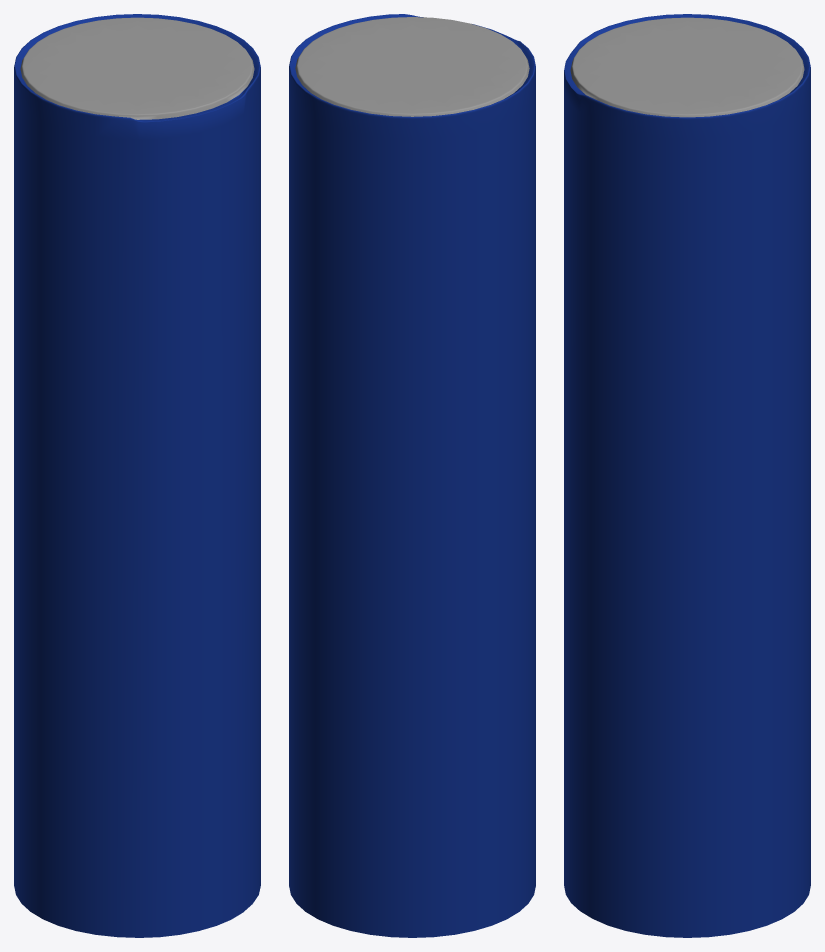
Rendered from Finish_Platform_1.fbx.
The picture shows the model from 3 angles, left to right: view 1: azimuth 30°, elevation 25°; view 2: azimuth 150°, elevation 25°; view 3: azimuth 270°, elevation 25°; orthographic projection.
Visible parts, largest first — view 1: FinishPlatform; view 2: FinishPlatform; view 3: FinishPlatform.
Part boxes in pixels (bbox=[...]): FinishPlatform: bbox=[14, 14, 260, 937]; FinishPlatform: bbox=[289, 14, 535, 937]; FinishPlatform: bbox=[564, 14, 810, 937].
Bounding box in the file's own units: 459 × 1682 × 459.
